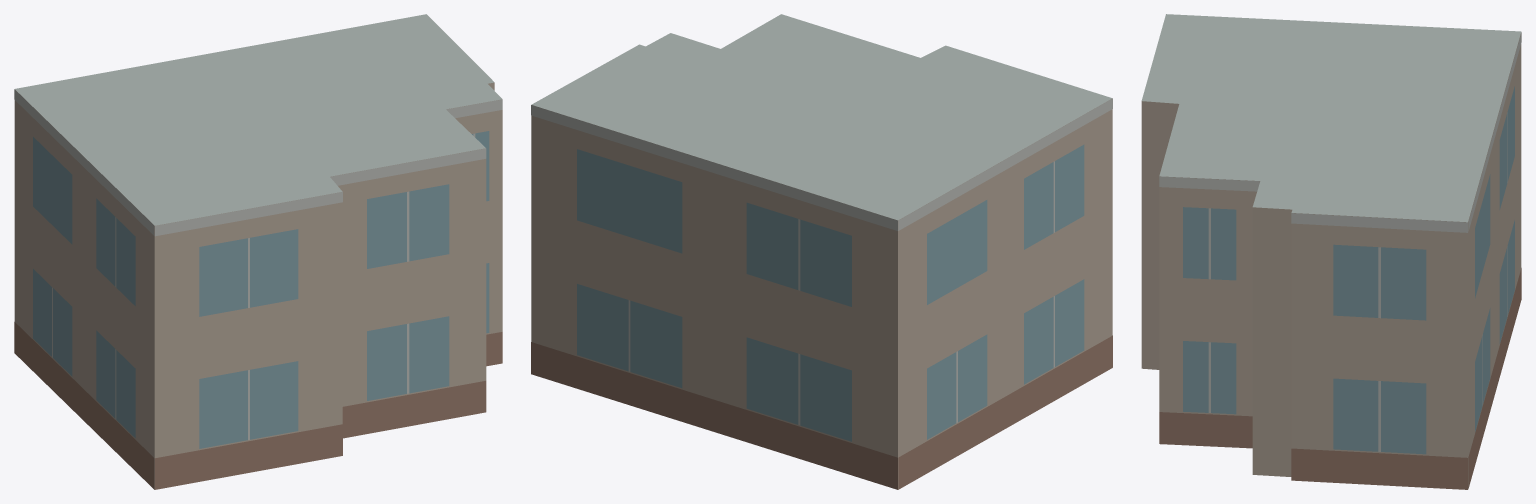
File: survey-upis-32972864.glb
3 renders of one model, left to right at view 1: azimuth 30°, elevation 25°; view 2: azimuth 150°, elevation 25°; view 3: azimuth 270°, elevation 25°, orthographic. The views are drawn at different scales.
Visible parts, largest first — view 1: survey-upis-32972864.tmp; view 2: survey-upis-32972864.tmp; view 3: survey-upis-32972864.tmp.
Part boxes in pixels (box(x1,y1,x2,y2)): survey-upis-32972864.tmp: box(14, 14, 502, 489); survey-upis-32972864.tmp: box(531, 14, 1112, 489); survey-upis-32972864.tmp: box(1141, 14, 1521, 489).
Bounding box in the file's own units: 10.19 × 6.1 × 7.86.
